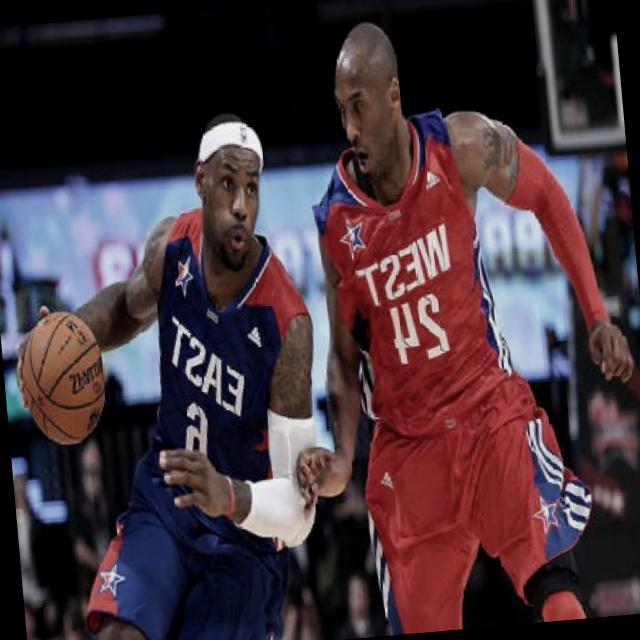Person: (49, 94, 337, 640), (308, 0, 536, 636)
